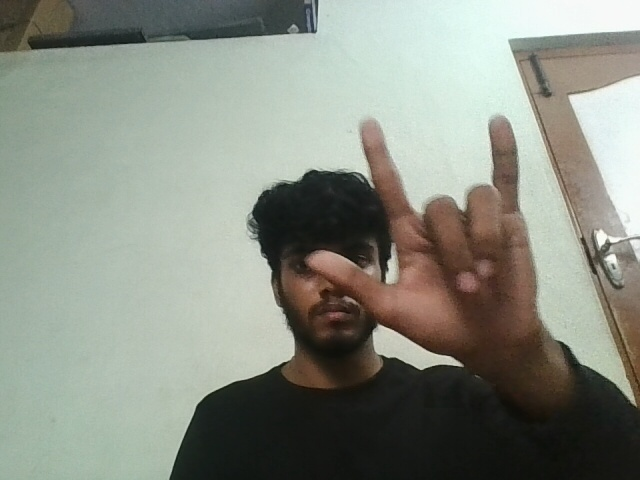iloveyou: (299, 88, 546, 366)
